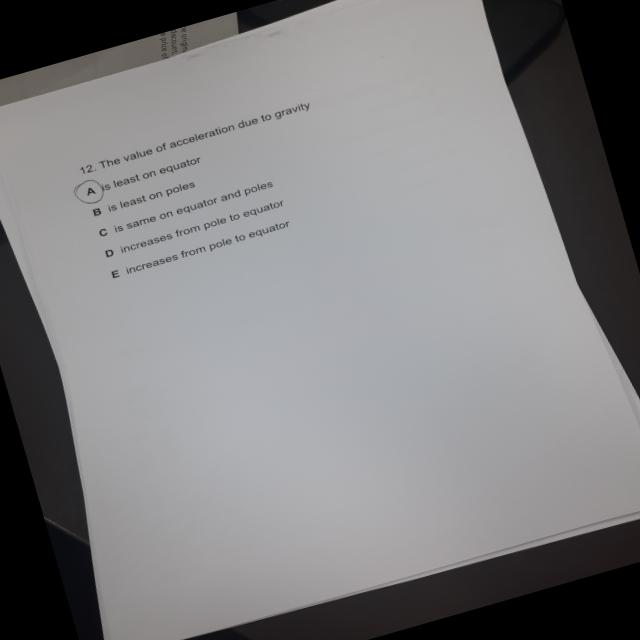A: (68, 175, 109, 210)
